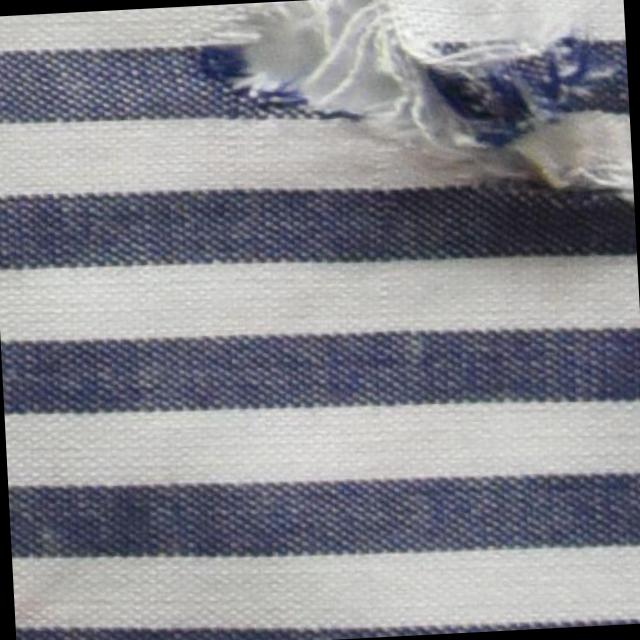cut: (204, 0, 634, 220)
